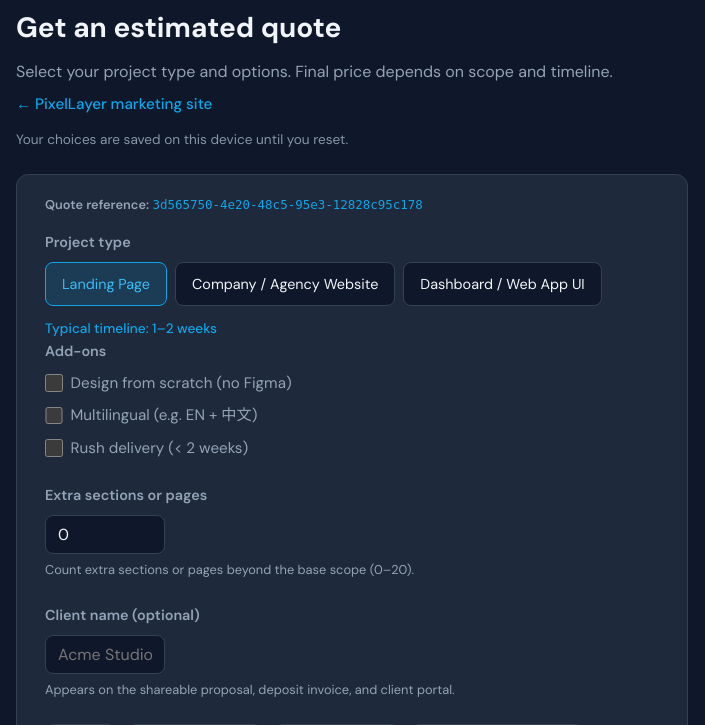
Test: Calculator › clamps extra sections on blur
The width and height of the screenshot is (705, 725).
Type "99" into the number field labelled "Extra sections or pages".
click(105, 534); type("99")  # box [45,515,165,554]
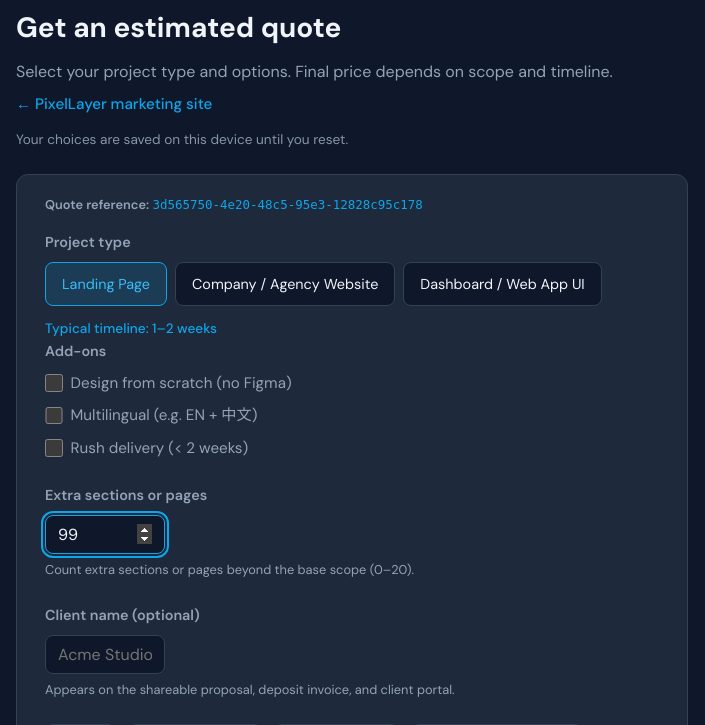
Press Tab
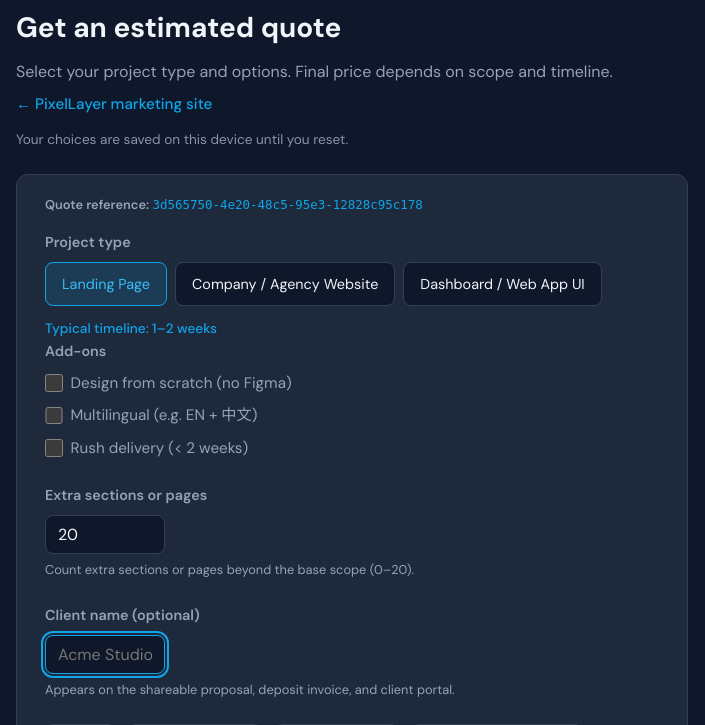
Now the number field labelled "Extra sections or pages" holds "20", box [45,515,165,554]
